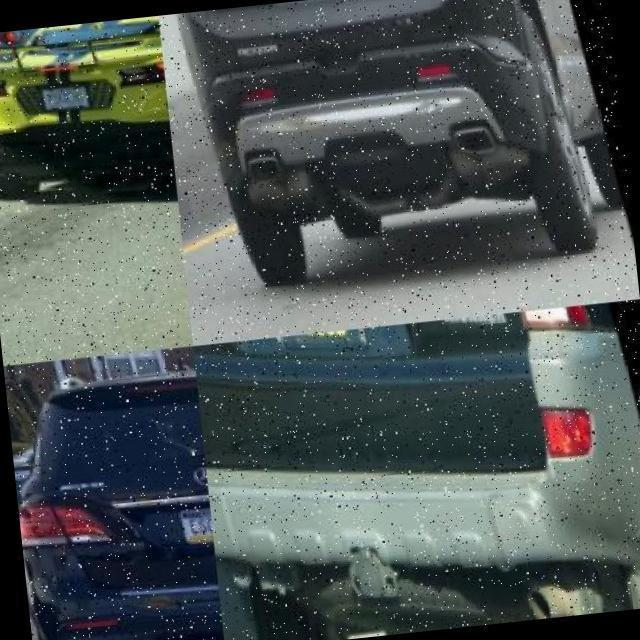License Plate: (259, 327, 373, 389), (277, 0, 345, 28), (170, 500, 211, 537), (31, 78, 82, 107)
